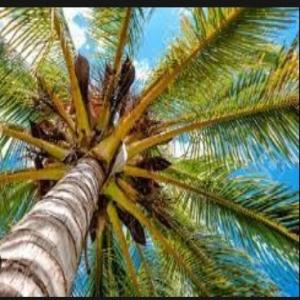palm tree: (0, 6, 299, 296)
